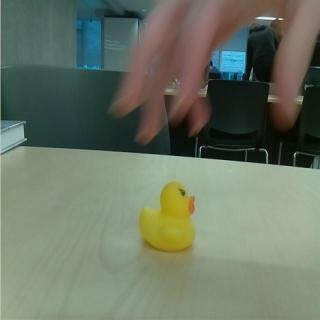duck_regular: (139, 183, 198, 253)
